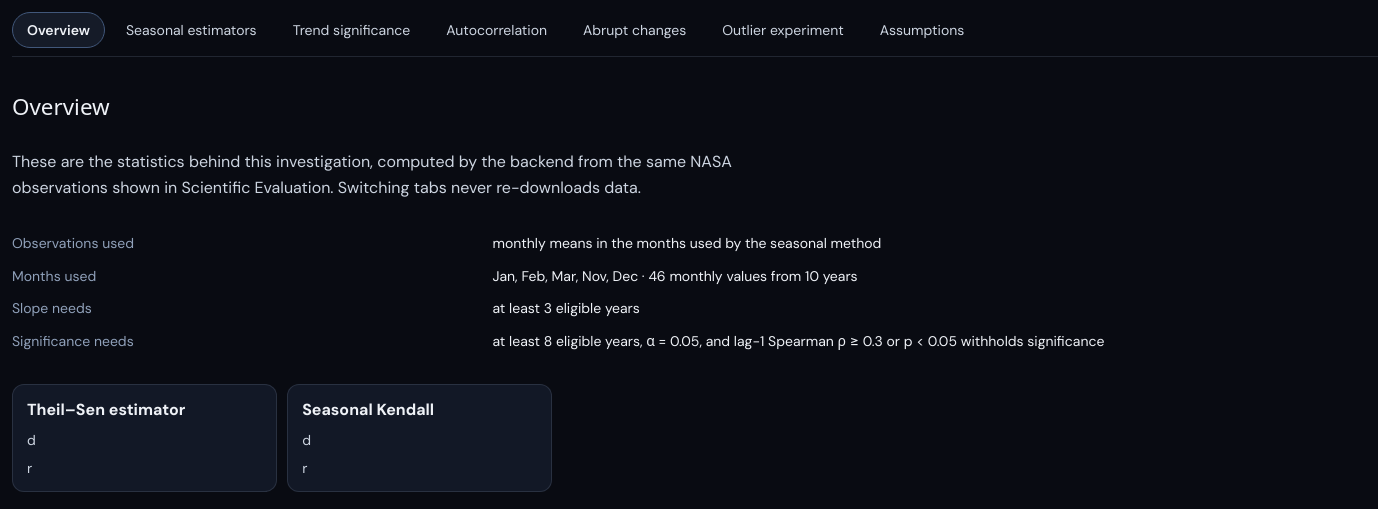
Test: Statistical Methods Lab › uses the seasonal panel for NDVI and refuses an annual comparison on a different sample
Click the tab "Seasonal estimators" at (191, 30), box [111,12,272,48]
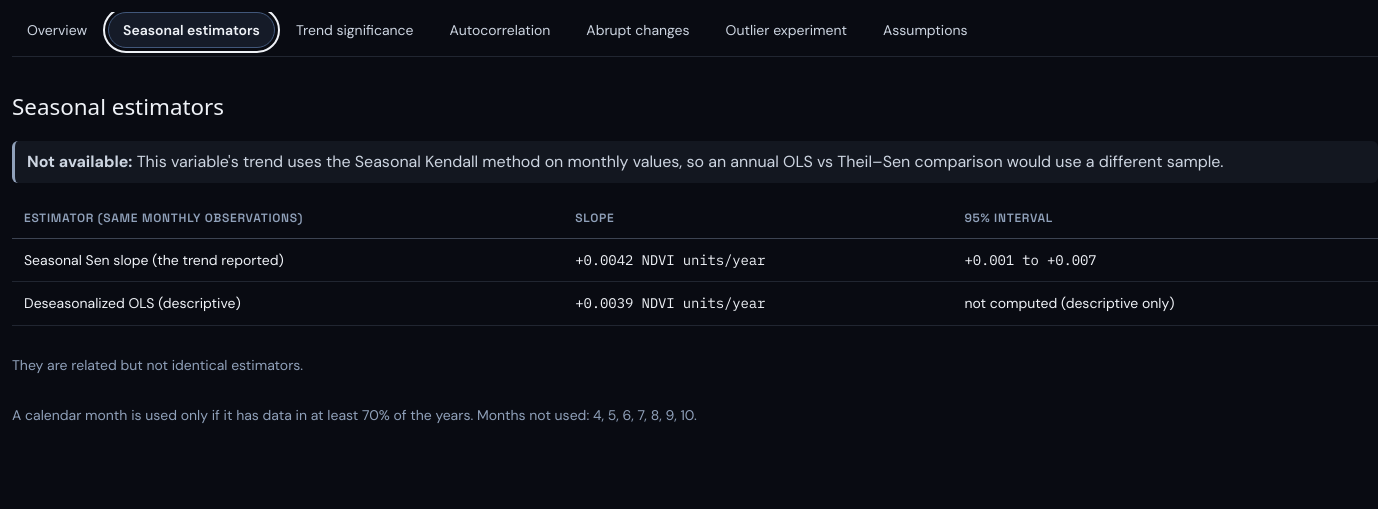
Check: the text "would use a different sample" is shown, box [137,151,1224,172]
Check: the text "Seasonal Sen slope (the trend reported)" is shown, box [12,238,563,282]
Check: the text "They are related but not identical estimators." is shown, box [12,356,303,374]
Click the tab "Autocorrelation" at (500, 30), box [434,12,565,48]
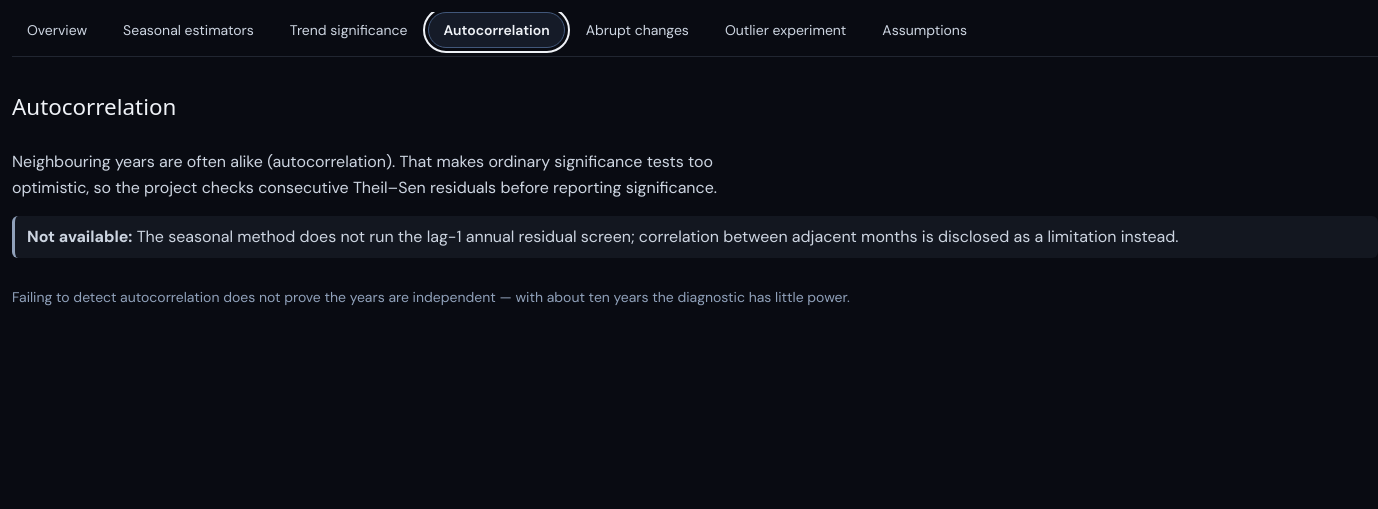
Check: the text "does not run the lag-1 annual residual screen" is shown, box [137,226,1178,247]
